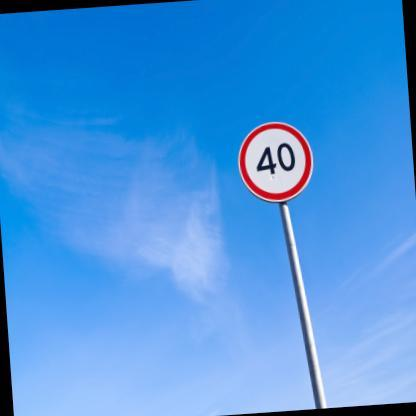road_sign: (237, 122, 314, 206)
